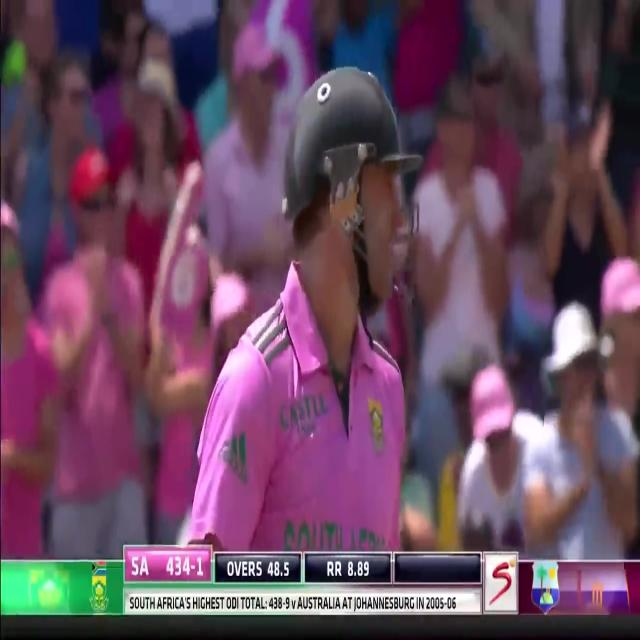Ball: (184, 66, 478, 554)
